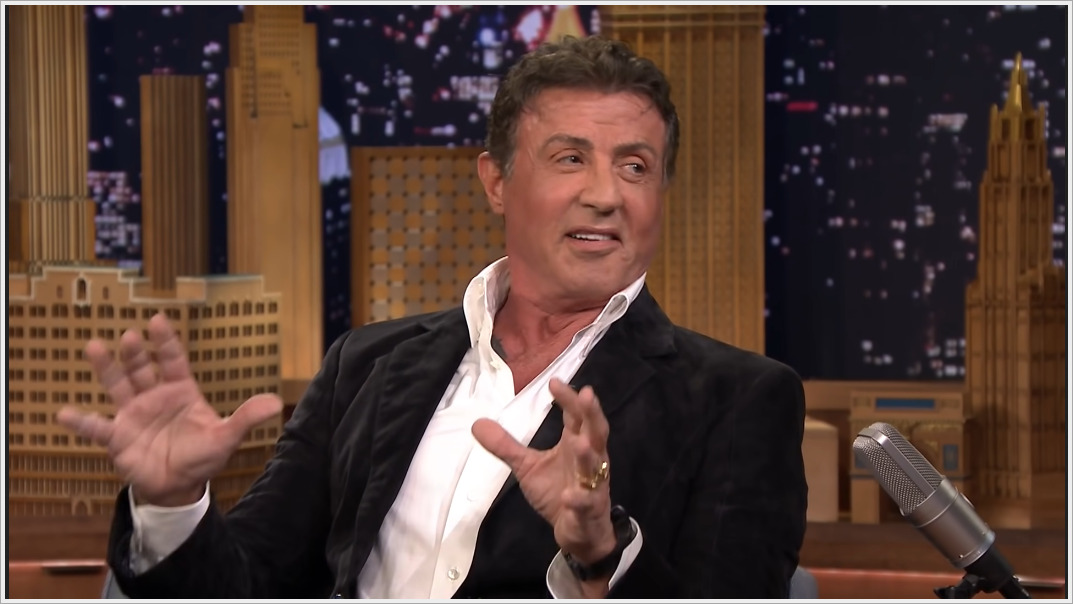hand: (55, 304, 288, 496), (468, 369, 617, 567)
